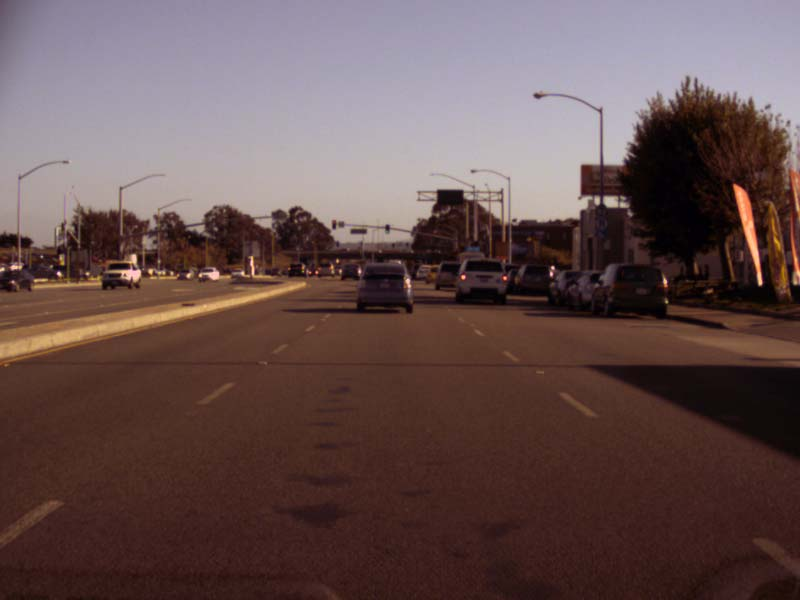Green: (384, 224, 389, 234)
Red: (331, 219, 336, 229)
